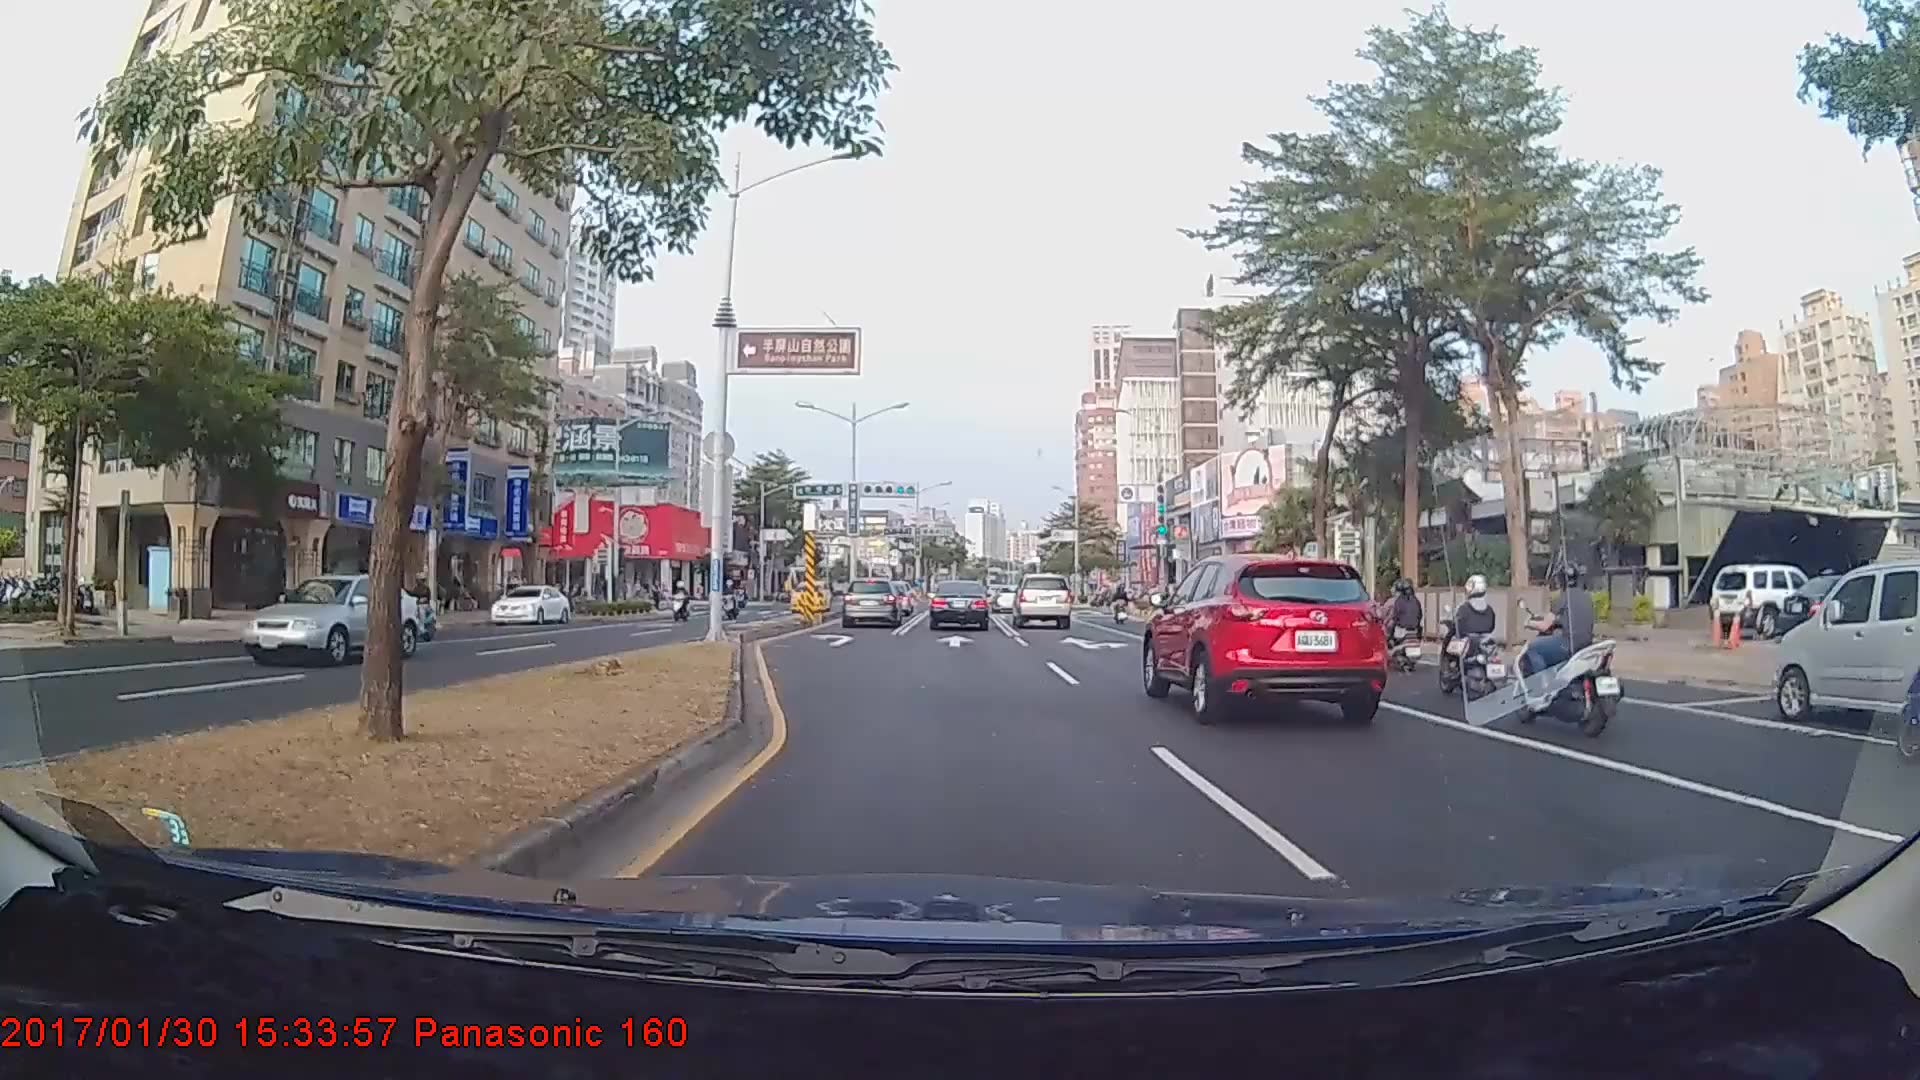rider: (1505, 559, 1628, 740), (1429, 570, 1514, 697), (1367, 568, 1425, 676), (402, 568, 446, 644), (666, 576, 698, 625)
vehicle: (1140, 551, 1386, 724), (1788, 558, 1919, 723), (243, 572, 430, 667), (1712, 563, 1816, 633), (487, 583, 577, 624), (1012, 572, 1072, 628), (929, 578, 990, 628), (841, 577, 902, 626), (786, 579, 830, 613)
